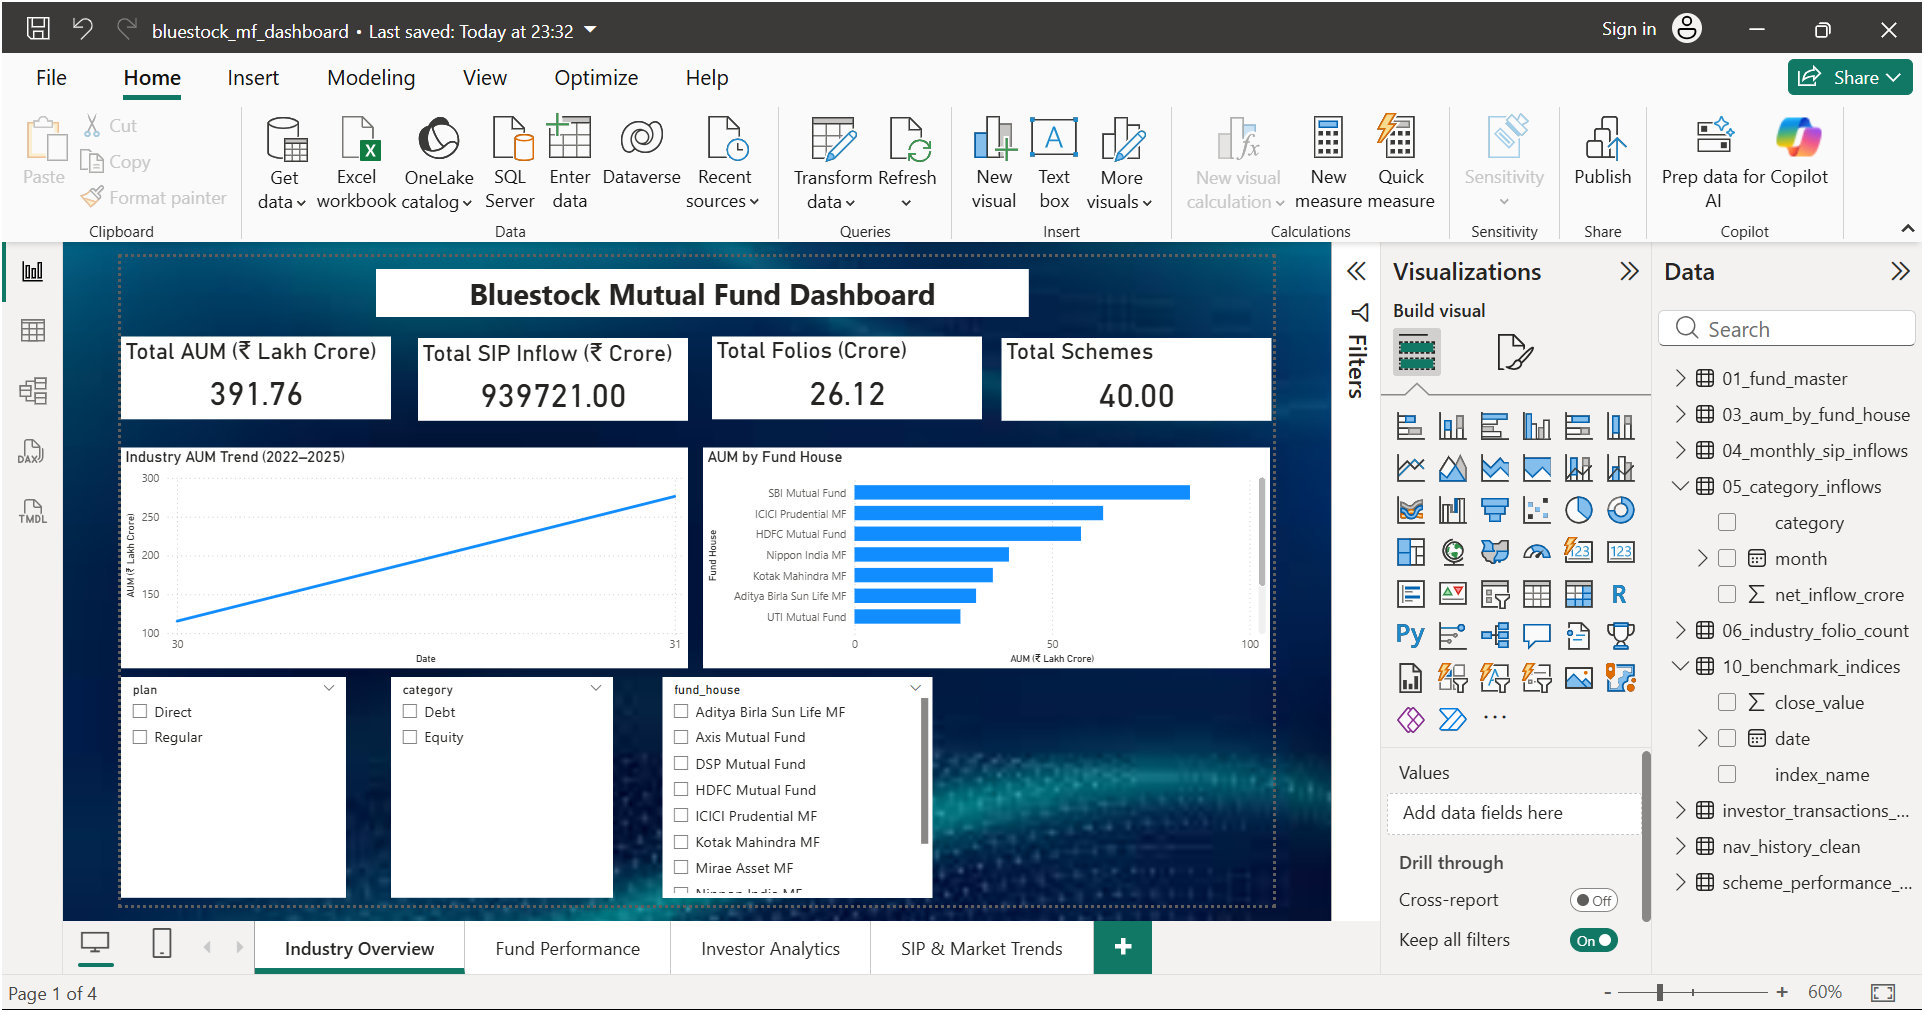

This screenshot's page, from the dashboard's own definition file:
{"tool":"powerbi","page":{"name":"Industry Overview","canvas":[1280,720],"ordinal":0},"visuals":[{"type":"textbox","box":[283.4,13,725.4,53.4],"z":0},{"type":"card","title":"Total AUM (₹ Lakh Crore)","fields":{"Values":["Sum(03_aum_by_fund_house.aum_lakh_crore)"]},"box":[0,88.3,300,91.7],"z":1000},{"type":"card","title":"Total SIP Inflow (₹ Crore)","fields":{"Values":["Sum(04_monthly_sip_inflows.sip_inflow_crore)"]},"box":[330,90,300,91.7],"z":2000},{"type":"card","title":"Total Folios (Crore)","fields":{"Values":["Max(06_industry_folio_count.total_folios_crore)"]},"box":[656.7,88.3,300,91.7],"z":3000},{"type":"card","title":"Total Schemes","fields":{"Values":["Count(01_fund_master.scheme_name)"]},"box":[978.3,90,300,91.7],"z":4000},{"type":"lineChart","title":"Industry AUM Trend (2022–2025)","fields":{"Category":["03_aum_by_fund_house.date.Variation.Date Hierarchy.Year","03_aum_by_fund_house.date.Variation.Date Hierarchy.Quarter","03_aum_by_fund_house.date.Variation.Date Hierarchy.Month","03_aum_by_fund_house.date.Variation.Date Hierarchy.Day"],"Y":["Sum(03_aum_by_fund_house.aum_lakh_crore)"]},"box":[0,211.7,630,245],"z":5000},{"type":"clusteredBarChart","title":"AUM by Fund House","fields":{"Category":["03_aum_by_fund_house.fund_house"],"Y":["Sum(03_aum_by_fund_house.aum_lakh_crore)"]},"box":[646.7,211.7,630,245],"z":6000},{"type":"slicer","fields":{"Values":["01_fund_master.plan"]},"box":[0,466.7,250,245],"z":7000},{"type":"slicer","fields":{"Values":["01_fund_master.category"]},"box":[300,466.7,246.7,245],"z":8000},{"type":"slicer","fields":{"Values":["01_fund_master.fund_house"]},"box":[601.7,466.7,300,245],"z":9000}]}

Visuals, with their boxes on the page's 1280x720 design canvas (x1, y1, x2, y2). These are canvas units, not pixel positions in the 1924x1012 screenshot, which may show the page scaled, cropped or inside an application window:
textbox: (283, 13, 1009, 66)
"Total AUM (₹ Lakh Crore)" card: (0, 88, 300, 180)
"Total SIP Inflow (₹ Crore)" card: (330, 90, 630, 182)
"Total Folios (Crore)" card: (657, 88, 957, 180)
"Total Schemes" card: (978, 90, 1278, 182)
"Industry AUM Trend (2022–2025)" lineChart: (0, 212, 630, 457)
"AUM by Fund House" clusteredBarChart: (647, 212, 1277, 457)
slicer - 01_fund_master.plan: (0, 467, 250, 712)
slicer - 01_fund_master.category: (300, 467, 547, 712)
slicer - 01_fund_master.fund_house: (602, 467, 902, 712)
